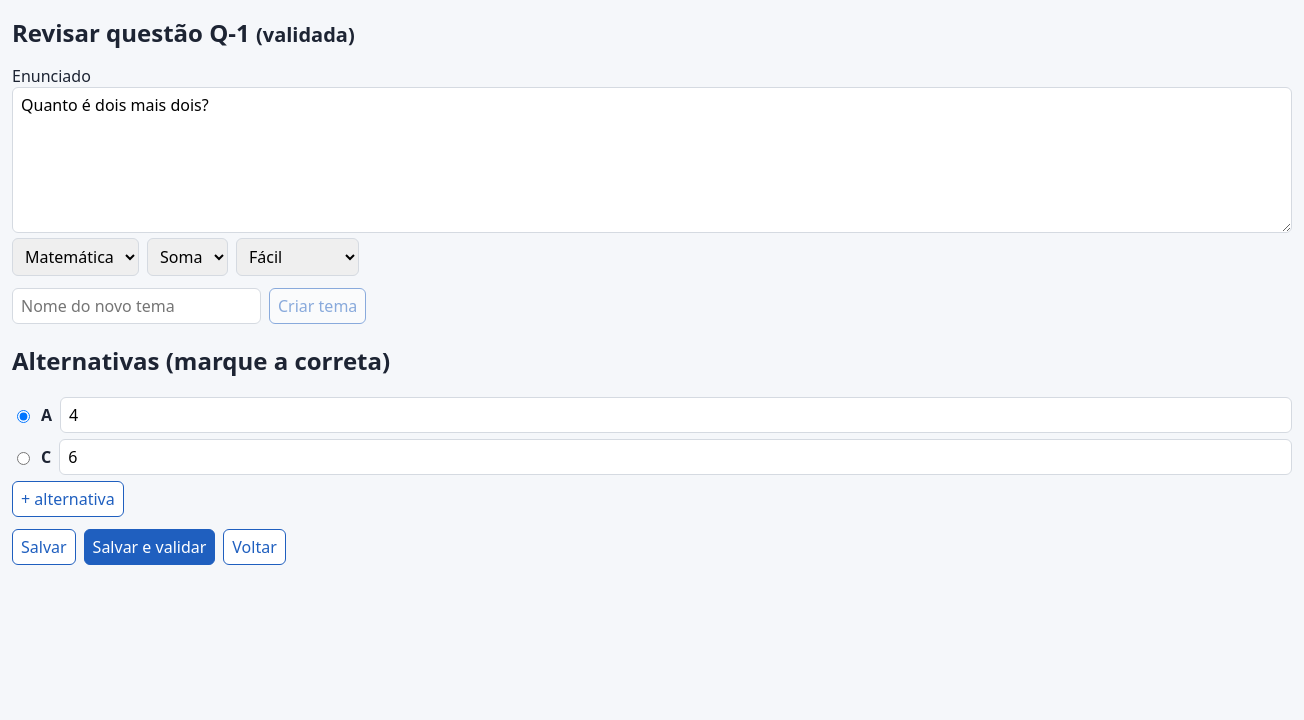
Test: Telas React › REGRESSÃO: adicionar alternativa deve usar uma letra ainda livre
Expected: the text box showing "Quanto é dois mais dois?" is shown, x1=12 y1=87 x2=1292 y2=233
Click the button "+ alternativa".
click(68, 499)  # box x1=12 y1=481 x2=124 y2=517
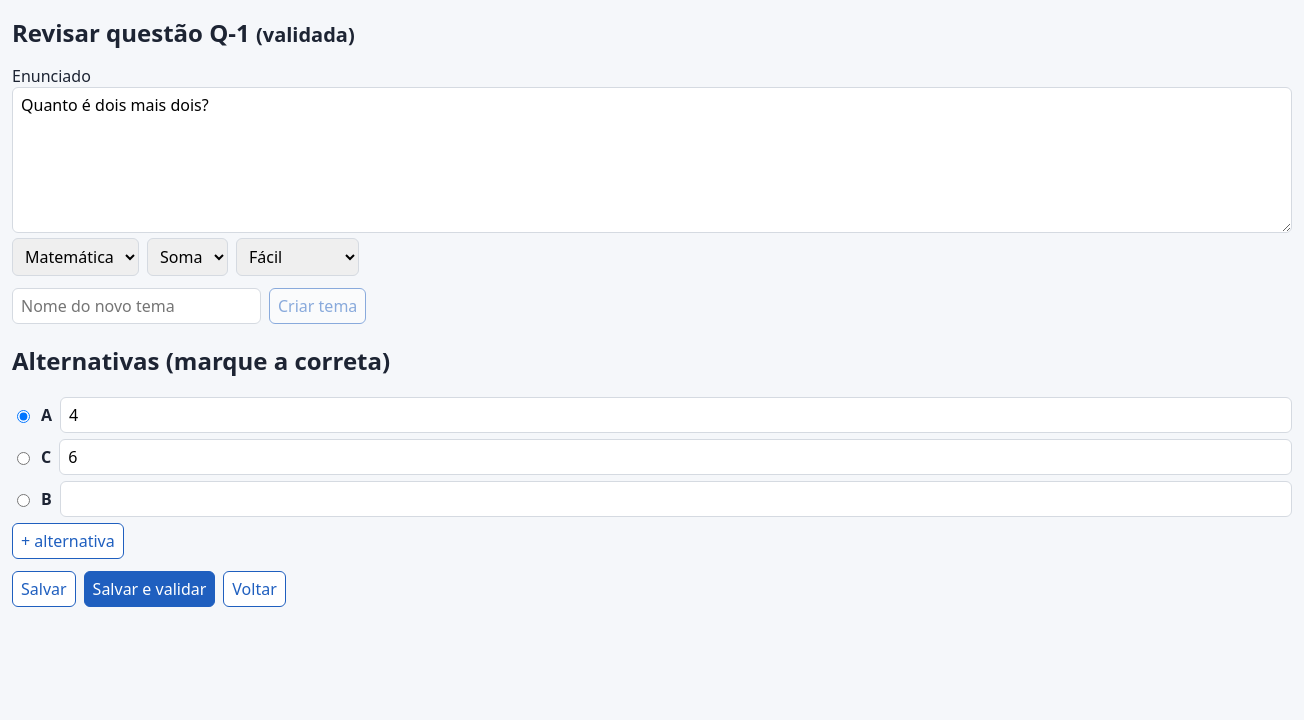
Expected: the number of radio buttons named "Correta: C" is 1, x1=17 y1=452 x2=30 y2=465
